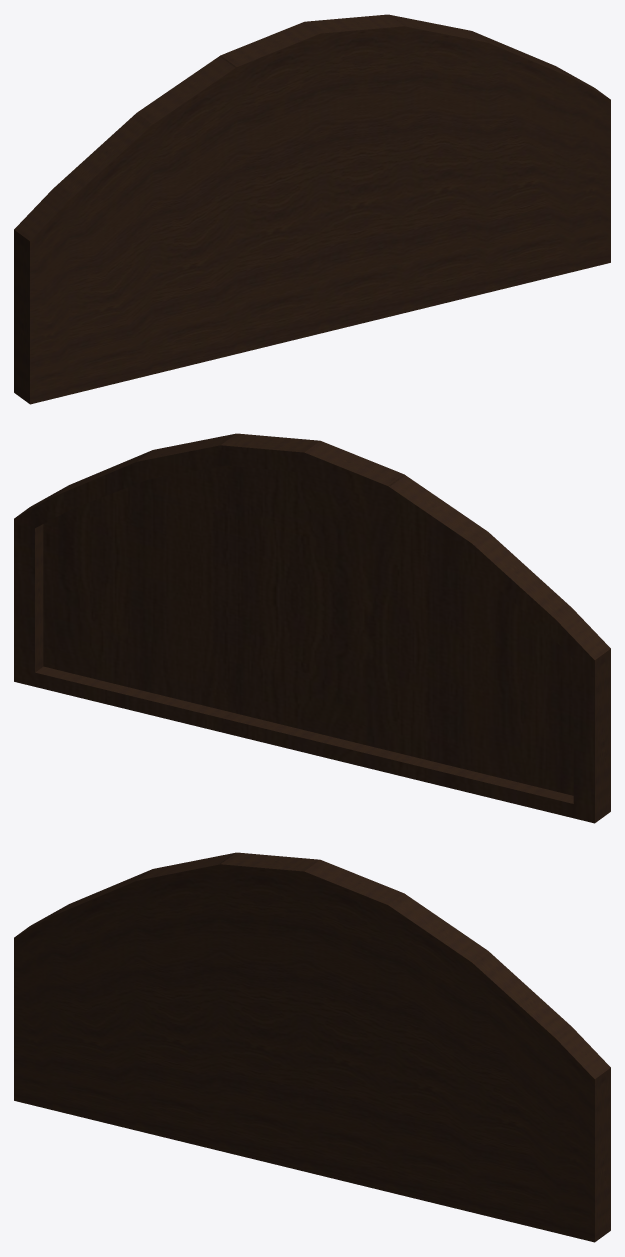
File: SB_Bar_Panel_2.fbx
3 views of the same model, one above another, from view 1: azimuth 30°, elevation 25°; view 2: azimuth 150°, elevation 25°; view 3: azimuth 330°, elevation 25° (orthographic).
Parts seen in each view (by area): view 1: Cube.010; view 2: Cube.010; view 3: Cube.010.
Boxes of the visible parts, <box> form: Cube.010: <box>14,14,610,404</box>; Cube.010: <box>14,433,610,823</box>; Cube.010: <box>14,852,610,1242</box>.
Bounding box in the file's own units: 405 × 200 × 19.52.
